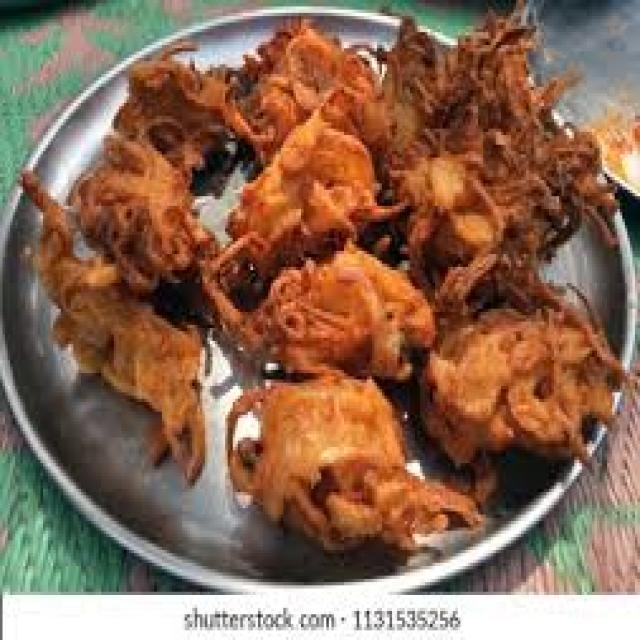BAJI: (222, 376, 467, 555), (403, 7, 574, 240), (31, 188, 195, 430), (414, 300, 615, 461), (208, 250, 426, 394), (87, 61, 215, 293), (233, 115, 380, 277), (222, 20, 392, 160)
